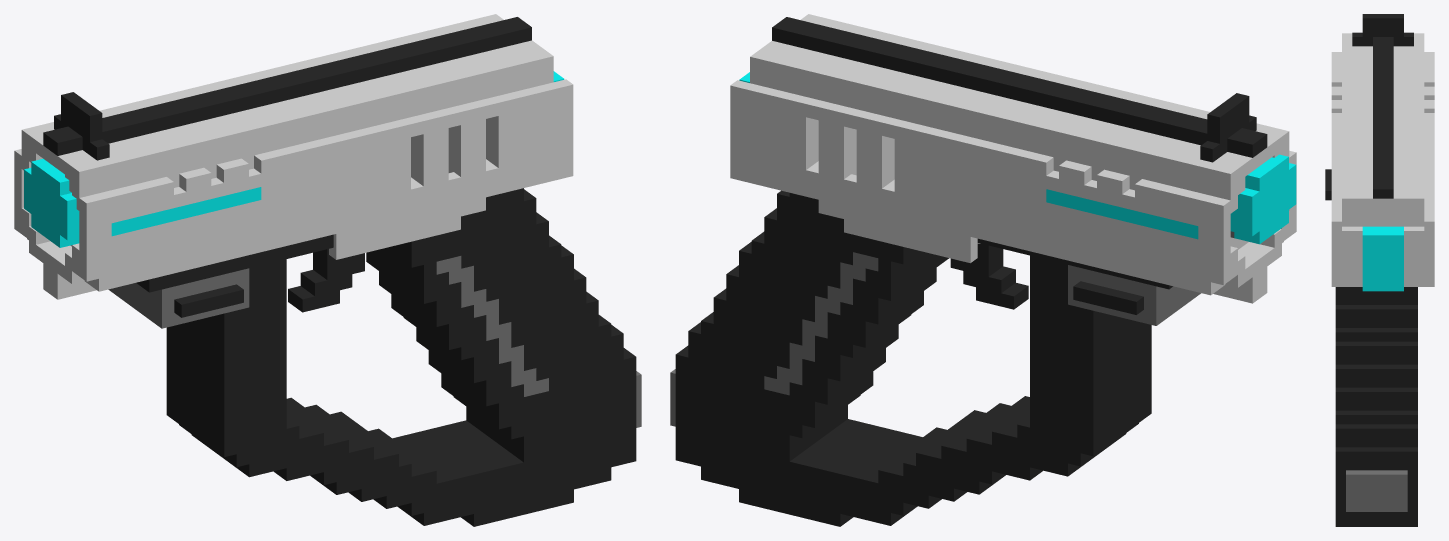
3 views of the same model, side by side, from view 1: azimuth 30°, elevation 25°; view 2: azimuth 150°, elevation 25°; view 3: azimuth 270°, elevation 25° (orthographic). The views are drawn at different scales.
Visible parts, largest first — view 1: gun hand, gun tube; view 2: gun tube, gun hand; view 3: gun tube, gun hand.
Part boxes in pixels (x1=…): gun hand: x1=24, y1=158, x2=641, y2=526; gun tube: x1=14, y1=14, x2=573, y2=299; gun tube: x1=730, y1=14, x2=1296, y2=303; gun hand: x1=670, y1=154, x2=1296, y2=526; gun tube: x1=1331, y1=14, x2=1434, y2=291; gun hand: x1=1325, y1=169, x2=1417, y2=526.
Bounding box in the file's own units: 4.6 × 3.72 × 1.06.
Materials: 2 (2 with a texture image).
